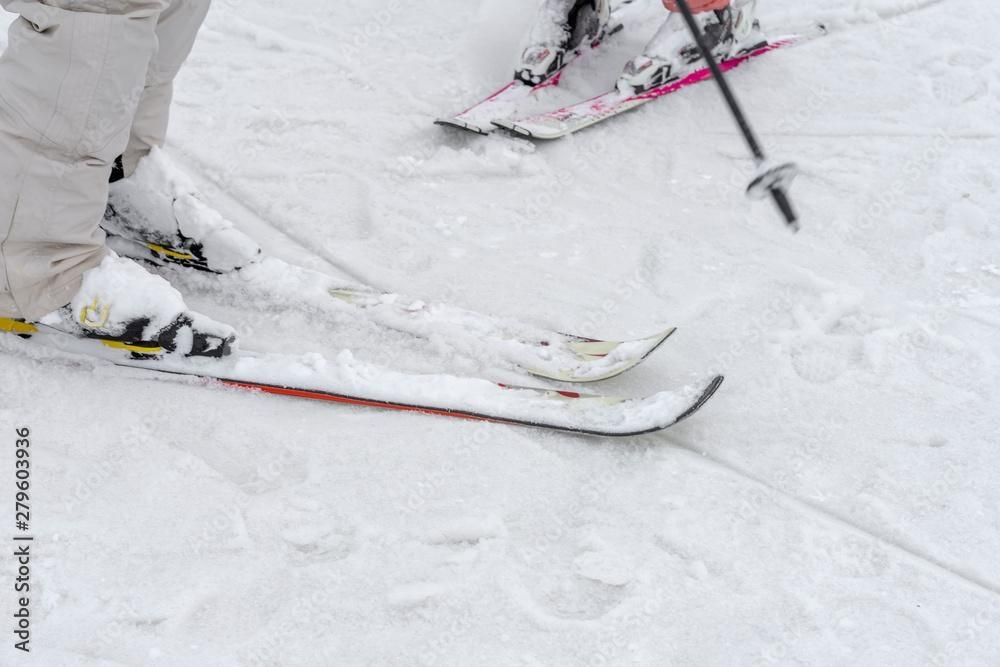Skis: (0, 222, 752, 448)
